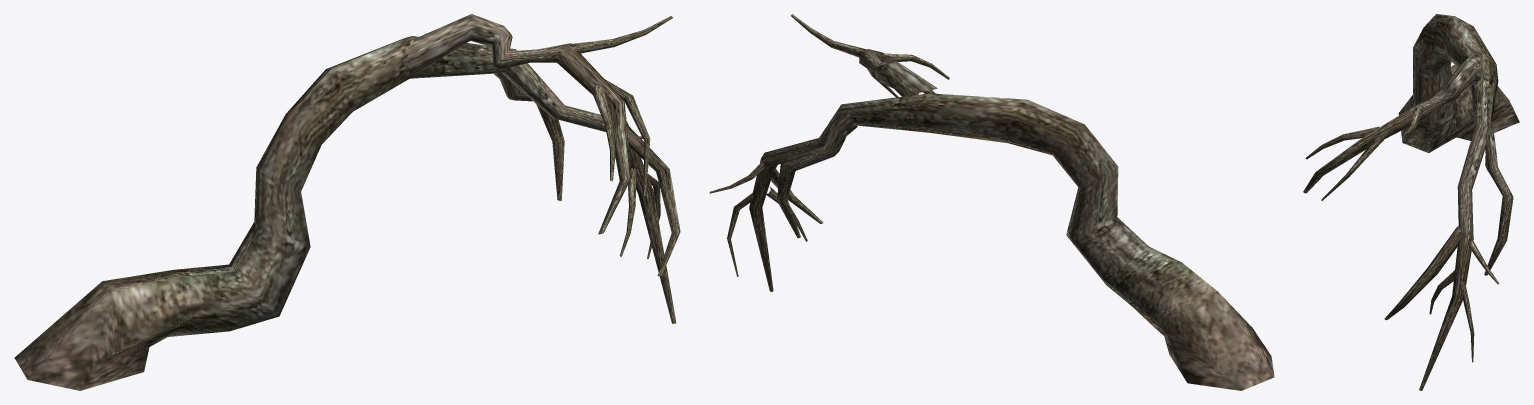
Rendered from deadwood_04.glb.
The picture shows the model from 3 angles, left to right: view 1: azimuth 30°, elevation 25°; view 2: azimuth 150°, elevation 25°; view 3: azimuth 270°, elevation 25°; orthographic projection. The views are drawn at different scales.
Visible parts, largest first — view 1: deadwood_04; view 2: deadwood_04; view 3: deadwood_04.
Boxes of the visible parts, left/top/right/bottom form: deadwood_04: left=14, top=14, right=680, bottom=390; deadwood_04: left=709, top=14, right=1274, bottom=390; deadwood_04: left=1303, top=14, right=1519, bottom=390.
Size of the model in its own units: 7.88 by 3.9 by 2.92.
Materials: 1 (1 with a texture image).
